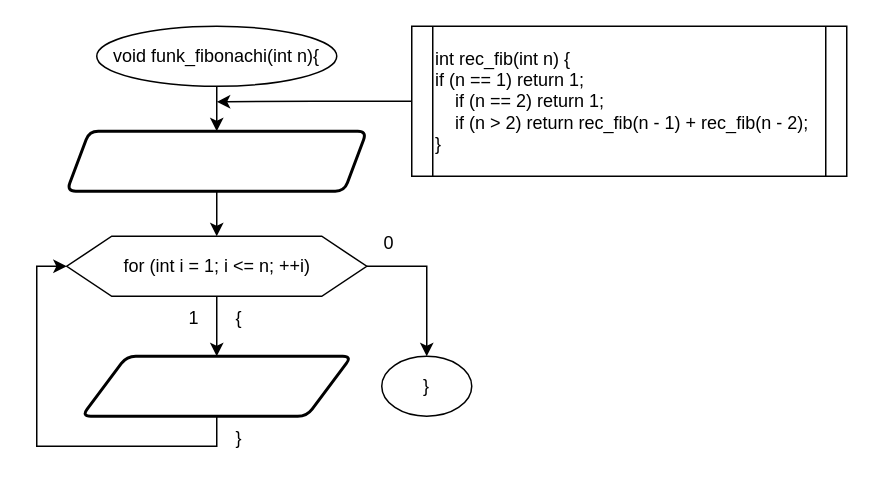
The diagram is 873 pixels wide and 488 high, and some of its shapes have lost their labels. The centre of each missing label's shape, as x and y in pixels:
cout << "Ряд Фибоначи до указанного элемента:" << endl;: point 216,160
cout << rec_fib(i) << " ";: point 216,385
